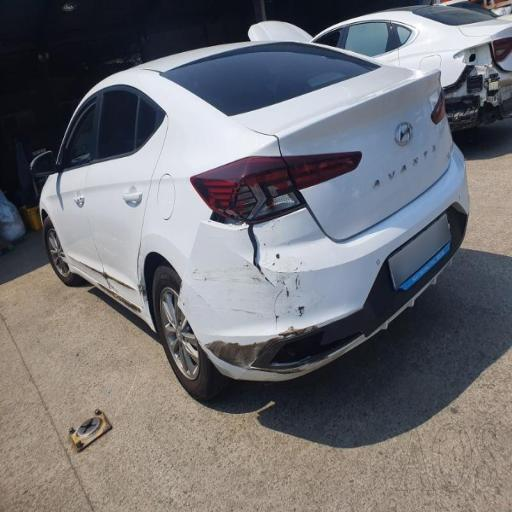broken: (194, 161, 311, 313)
scratch: (174, 252, 330, 339)
